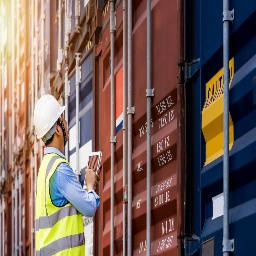helmet: (30, 94, 71, 141)
person: (31, 94, 99, 256)
vest: (35, 150, 88, 253)
